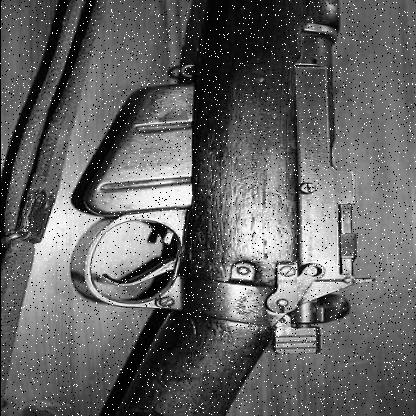rifle: (81, 0, 377, 402)
